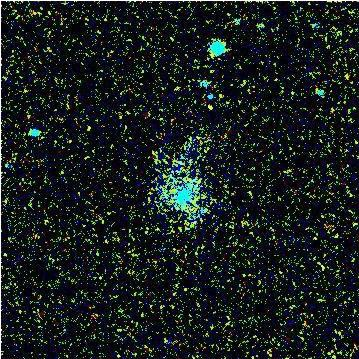star: (194, 91, 224, 121)
